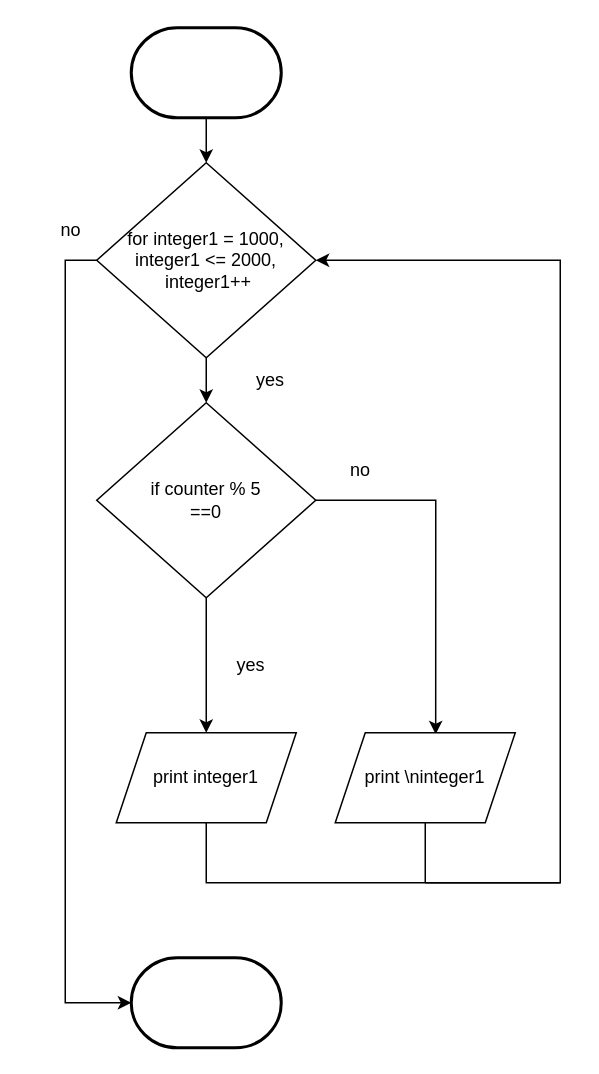
The diagram is 599 pixels wide and 1074 high, and some of its shapes have lost their labels. Each missing label, with the box of its shape:
Start: (129, 26, 282, 118)
Stop: (129, 956, 282, 1048)
